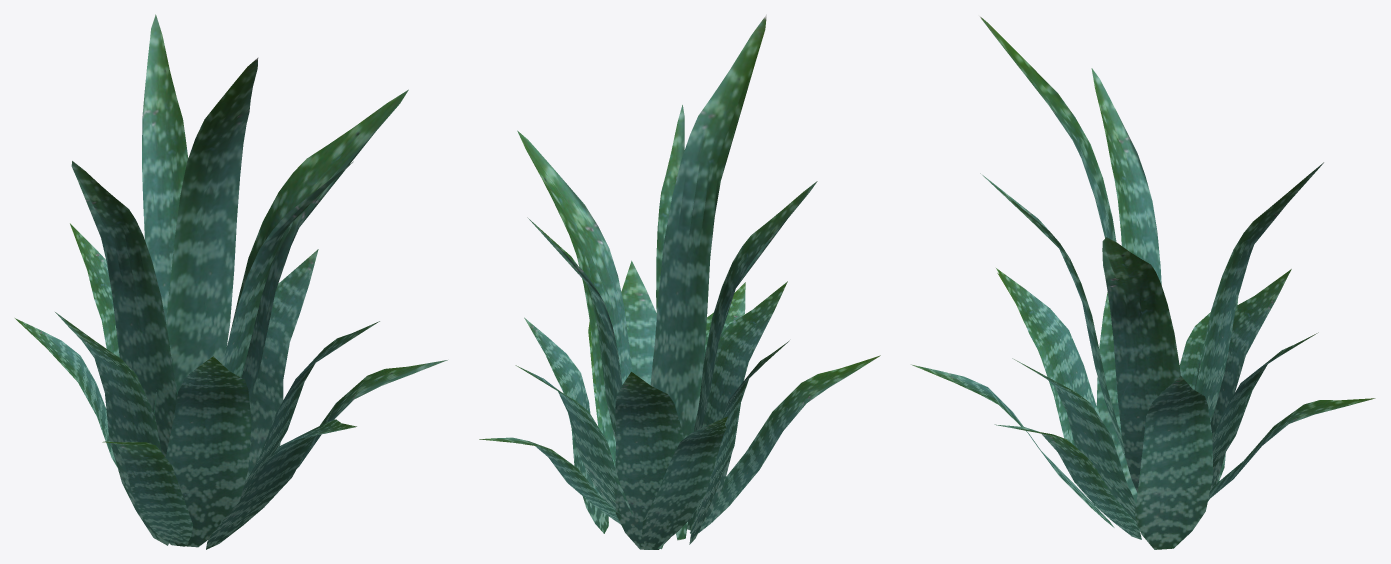
Rendered from agave.glb.
The picture shows the model from 3 angles, left to right: view 1: azimuth 30°, elevation 25°; view 2: azimuth 150°, elevation 25°; view 3: azimuth 270°, elevation 25°; orthographic projection. The views are drawn at different scales.
Visible parts, largest first — view 1: Mesh_7; view 2: Mesh_7; view 3: Mesh_7.
Part boxes in pixels (x1,y1,x2,y2): Mesh_7: [15, 14, 447, 549]; Mesh_7: [479, 14, 880, 549]; Mesh_7: [911, 15, 1375, 549].
Bounding box in the file's own units: 24.83 × 35.56 × 30.17.
Materials: 1 (1 with a texture image).
